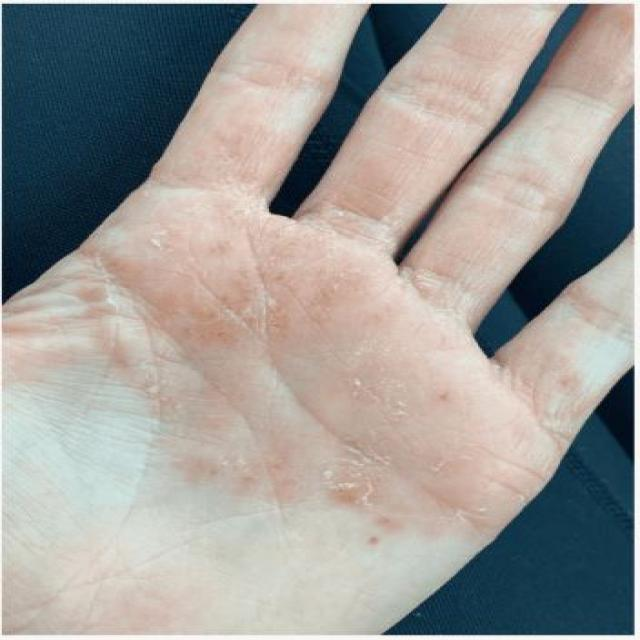Eczema: (111, 182, 571, 518)
